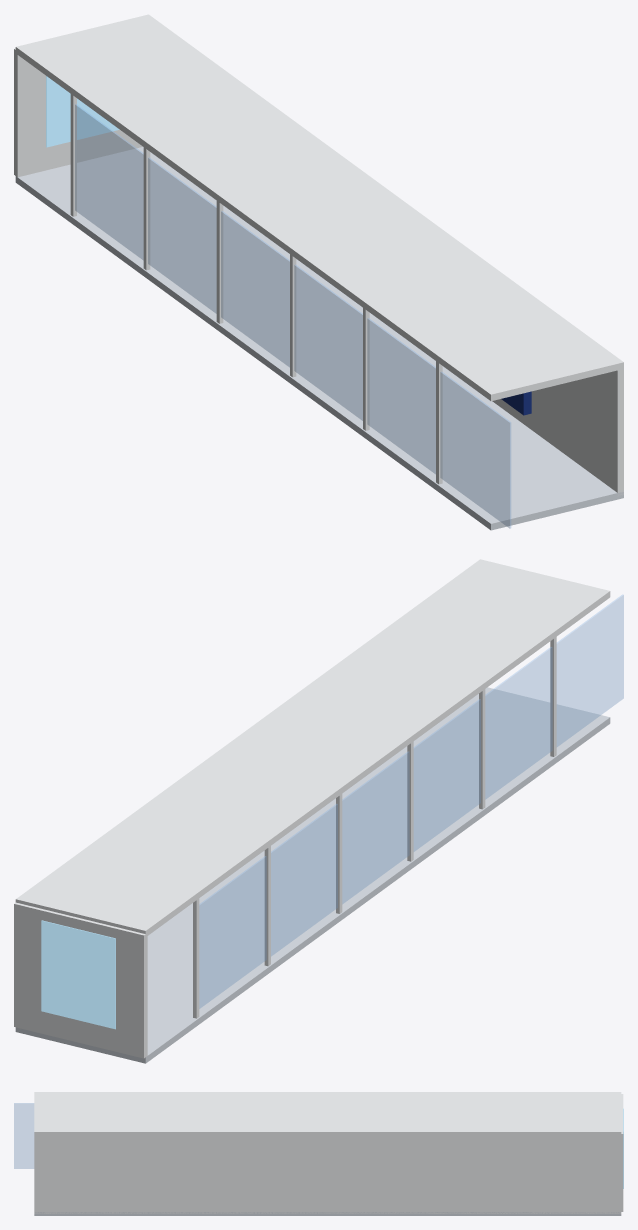
The model's file is corridor.glb.
The picture shows the model from 3 angles, top to bottom: view 1: azimuth 30°, elevation 25°; view 2: azimuth 150°, elevation 25°; view 3: azimuth 270°, elevation 25°; orthographic projection. The views are drawn at different scales.
Bounding box in the file's own units: 4.2 × 4.1 × 27.02.
